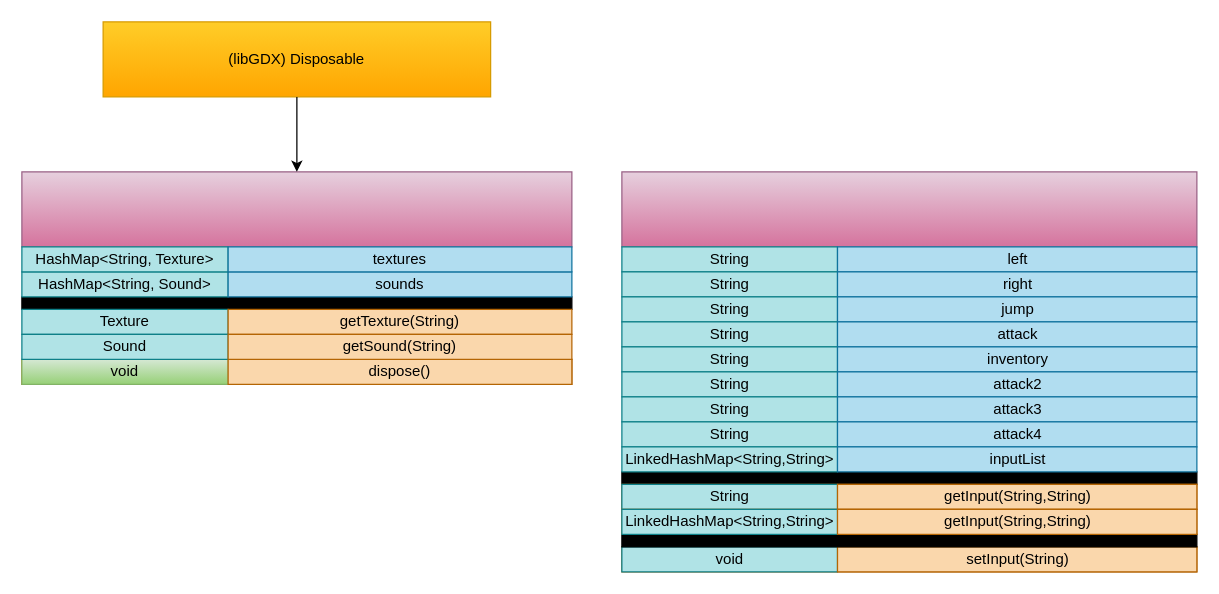
This 1219x594 diagram has some shape labels left out. Here are the shapes that lost their labels. From the top down, the centre of each, then its label:
At (x=296, y=209): "AssetManager".
At (x=909, y=209): "InputManager".
